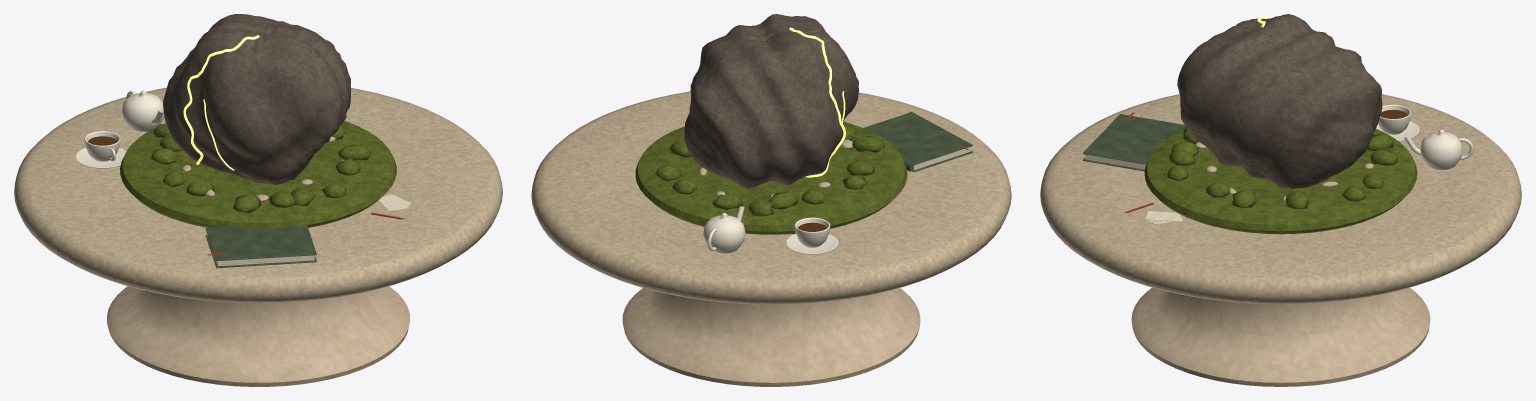
File: hearth.glb
3 renders of one model, left to right at view 1: azimuth 30°, elevation 25°; view 2: azimuth 150°, elevation 25°; view 3: azimuth 270°, elevation 25°, orthographic.
Parts seen in each view (by area): view 1: Mesh_CreationTable, Mesh_KilnSeedstone, Mesh_TableFoot, Mesh_CoreBed, Mesh_CoreGarden, Mesh_BibleCover, Mesh_TeaService, Mesh_KilnAmberSeam, Mesh_BiblePages; view 2: Mesh_CreationTable, Mesh_KilnSeedstone, Mesh_TableFoot, Mesh_CoreBed, Mesh_CoreGarden, Mesh_BibleCover, Mesh_TeaService, Mesh_KilnAmberSeam; view 3: Mesh_CreationTable, Mesh_KilnSeedstone, Mesh_TableFoot, Mesh_CoreBed, Mesh_CoreGarden, Mesh_BibleCover, Mesh_TeaService.
Boxes of the visible parts, x1=… form: Mesh_CreationTable: x1=14, y1=87, x2=502, y2=302; Mesh_KilnSeedstone: x1=163, y1=14, x2=350, y2=184; Mesh_TableFoot: x1=107, y1=286, x2=409, y2=386; Mesh_CoreBed: x1=120, y1=121, x2=396, y2=228; Mesh_CoreGarden: x1=150, y1=124, x2=371, y2=212; Mesh_BibleCover: x1=205, y1=225, x2=316, y2=268; Mesh_TeaService: x1=75, y1=90, x2=164, y2=168; Mesh_KilnAmberSeam: x1=183, y1=35, x2=259, y2=164; Mesh_BiblePages: x1=216, y1=255, x2=314, y2=266; Mesh_CreationTable: x1=531, y1=91, x2=1011, y2=304; Mesh_KilnSeedstone: x1=684, y1=14, x2=858, y2=188; Mesh_TableFoot: x1=622, y1=288, x2=920, y2=386; Mesh_CoreBed: x1=635, y1=122, x2=907, y2=234; Mesh_CoreGarden: x1=655, y1=125, x2=885, y2=216; Mesh_BibleCover: x1=863, y1=112, x2=973, y2=172; Mesh_TeaService: x1=703, y1=206, x2=839, y2=254; Mesh_KilnAmberSeam: x1=789, y1=27, x2=845, y2=177; Mesh_CreationTable: x1=1040, y1=94, x2=1521, y2=304; Mesh_KilnSeedstone: x1=1177, y1=14, x2=1382, y2=188; Mesh_TableFoot: x1=1131, y1=287, x2=1430, y2=386; Mesh_CoreBed: x1=1144, y1=128, x2=1417, y2=234; Mesh_CoreGarden: x1=1167, y1=128, x2=1397, y2=208; Mesh_BibleCover: x1=1082, y1=114, x2=1185, y2=171; Mesh_TeaService: x1=1376, y1=104, x2=1473, y2=170.
Bounding box in the file's own units: 2.4 × 1.62 × 2.4.
Materials: 10 (7 with a texture image).
